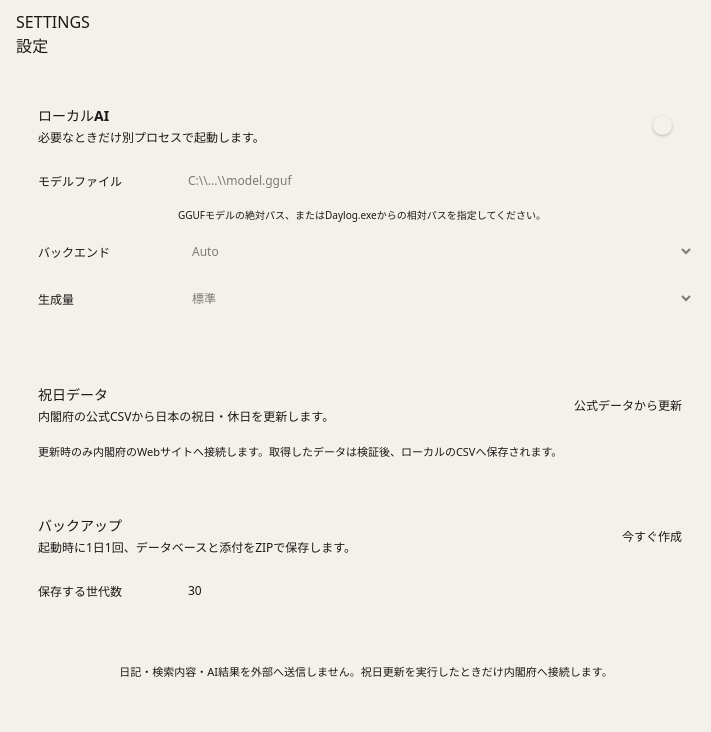
SettingsPage › prevents duplicate requests and reports an update error
The width and height of the screenshot is (711, 732).
Step 1. Click the button "公式データから更新" → coordinates (628, 404), box [562,390,694,420]
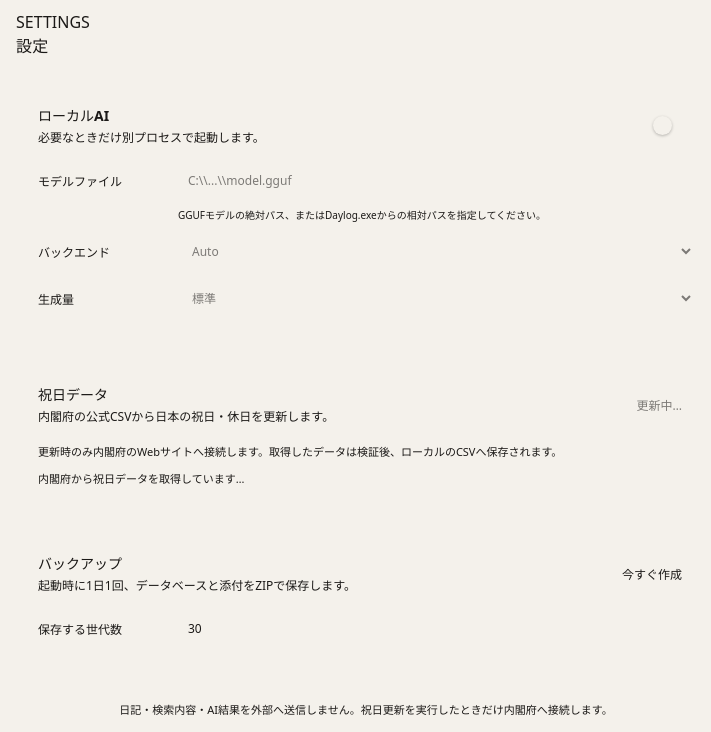
Step 2. Click the button "更新中…" → coordinates (659, 404), box [624,390,694,420]
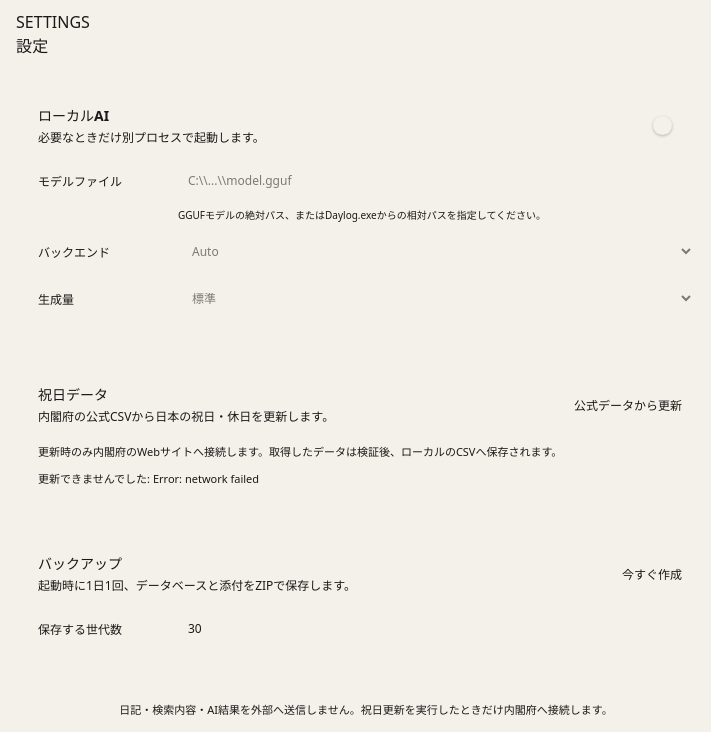
Check: the message shows "network failed", box [38,471,259,486]
Check: the button "公式データから更新" is enabled, box [562,390,694,420]
